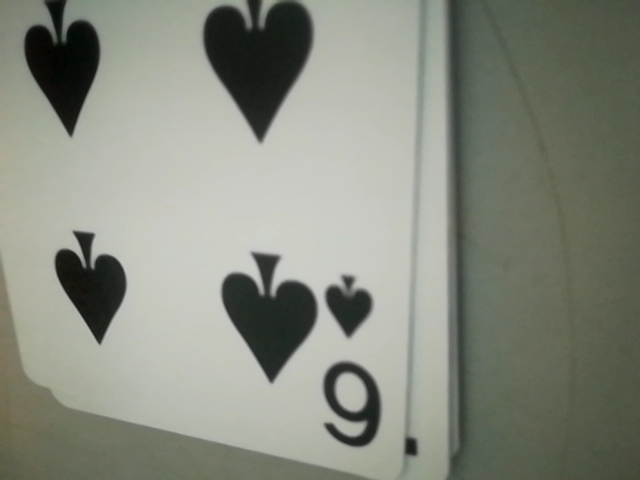ht 6: (314, 264, 393, 459)
